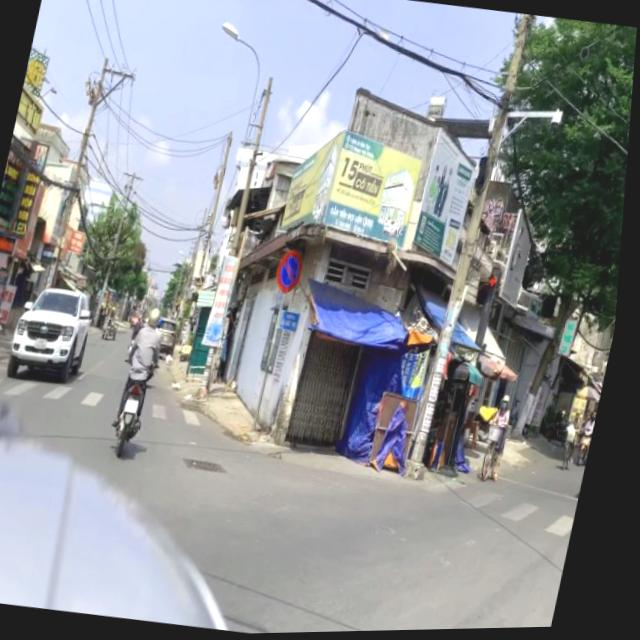Cam do xe: (275, 249, 311, 299)
